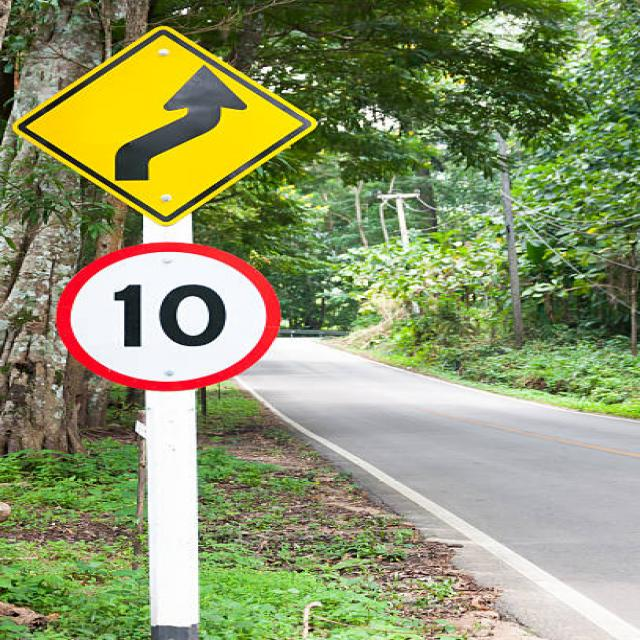left_sharp_curve: (12, 21, 324, 238)
